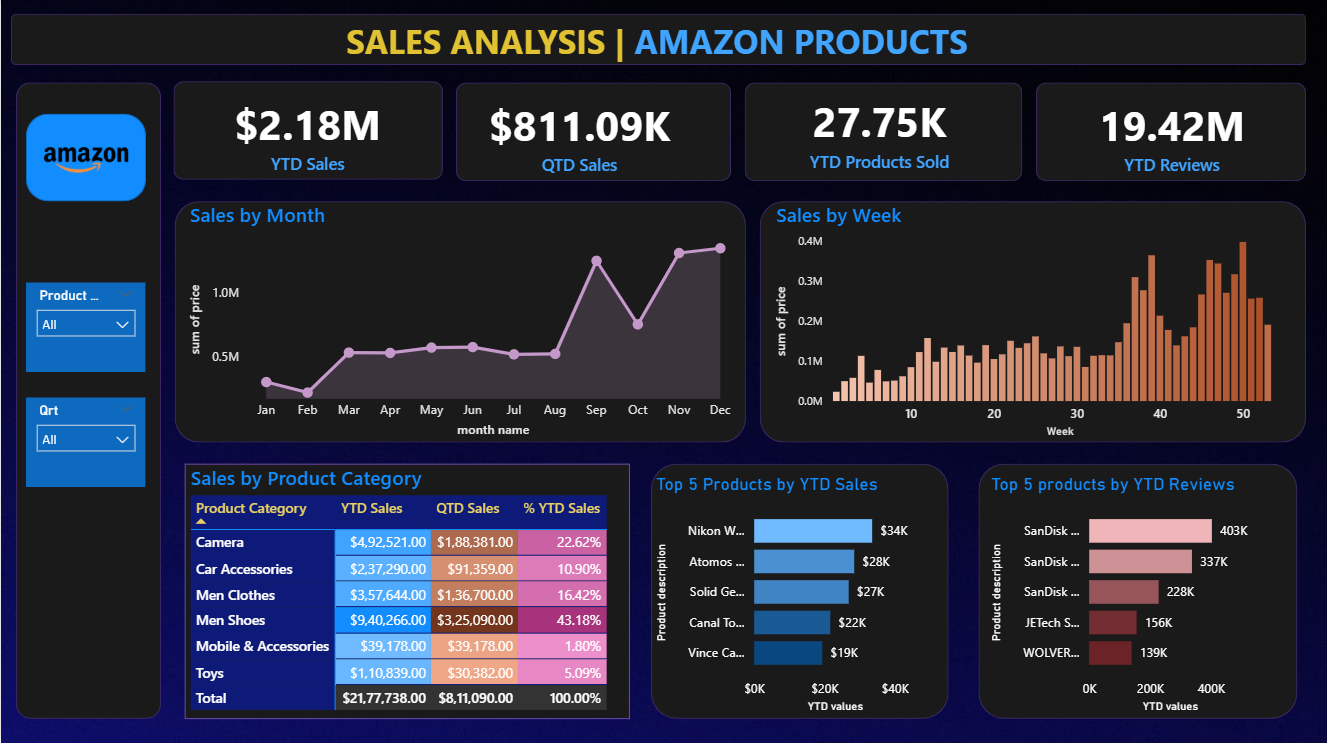

The dashboard page shown, as its layout file describes it:
{"tool":"powerbi","page":{"name":"Page 1","canvas":[1280,720],"ordinal":0},"visuals":[{"type":"shape","box":[9.7,13.3,1249.9,49.5],"z":0},{"type":"textbox","box":[326.9,13.3,624.9,55.5],"z":1000},{"type":"shape","box":[14.5,79.6,139.9,614.1],"z":2000},{"type":"shape","box":[166.5,78.4,260,95],"z":3000},{"type":"card","fields":{"Values":["Amazon_Data.YTD Sales"]},"box":[166.5,82,259.4,95.3],"z":4000},{"type":"shape","box":[167.7,194.2,551.3,232.8],"z":5000},{"type":"shape","box":[439.1,79.6,265.4,95.3],"z":6000},{"type":"shape","box":[717.8,79.6,267.8,95.3],"z":7000},{"type":"shape","box":[998.9,79.6,260.6,95.3],"z":8000},{"type":"card","fields":{"Values":["Amazon_Data.QTD Sales"]},"box":[425.9,83.2,265.4,95.3],"z":9000},{"type":"card","fields":{"Values":["Amazon_Data.YTD Products Sold"]},"box":[715.4,79.6,265.4,95.3],"z":10000},{"type":"card","fields":{"Values":["Amazon_Data.YTD Reviews"]},"box":[985.7,83.2,265.4,95.3],"z":11000},{"type":"areaChart","title":" Sales by Month ","fields":{"Category":["Date Table.Month Name"],"Y":["Sum(Amazon_Data.Price(Dollar))"]},"box":[177.3,194.2,538.1,232.8],"z":12000},{"type":"shape","box":[732.3,194.2,527.2,232.8],"z":13000},{"type":"columnChart","title":"Sales by Week","fields":{"Category":["Date Table.Week"],"Y":["Sum(Amazon_Data.Price(Dollar))"]},"box":[743.2,194.2,507.9,232.8],"z":14000},{"type":"pivotTable","title":"Sales by Product Category","fields":{"Rows":["Amazon_Data.Product Category"],"Values":["Amazon_Data.YTD Sales1","Amazon_Data.QTD Sales","Amazon_Data.YTD Sales"]},"box":[177.3,447.6,429.5,246.1],"z":15000},{"type":"shape","box":[627.3,447.6,287.1,246.1],"z":16000},{"type":"shape","box":[943.4,447.6,307.6,246.1],"z":17000},{"type":"clusteredBarChart","title":"Top 5 Products by YTD Sales ","fields":{"Category":["Amazon_Data.Product Description"],"Y":["Amazon_Data.YTD Sales"]},"box":[627.1,456.9,275.8,236],"z":18000},{"type":"clusteredBarChart","title":"Top 5 products by YTD Reviews","fields":{"Category":["Amazon_Data.Product Description"],"Y":["Amazon_Data.YTD Reviews"]},"box":[950.9,456.9,275.8,236],"z":19000},{"type":"slicer","fields":{"Values":["Amazon_Data.Product Category"]},"box":[24.7,273.1,115.3,86.4],"z":20000},{"type":"slicer","fields":{"Values":["Date Table.Qrt"]},"box":[24.7,384.2,115.3,86.4],"z":21000},{"type":"shape","box":[24.1,109.8,115.8,84.5],"z":22000},{"type":"image","box":[24.1,109.8,115.8,84.5],"z":23000}]}

Visuals, with their boxes in screenshot pixels (x1, y1, x2, y2), scaled from the page's 1280x720 canvas onto the 1327x743 screenshot:
shape: 10, 14, 1306, 65
textbox: 339, 14, 987, 71
shape: 15, 82, 160, 716
shape: 173, 81, 442, 179
card - Amazon_Data.YTD Sales: 173, 85, 442, 183
shape: 174, 200, 745, 441
shape: 455, 82, 730, 180
shape: 744, 82, 1022, 180
shape: 1036, 82, 1306, 180
card - Amazon_Data.QTD Sales: 442, 86, 717, 184
card - Amazon_Data.YTD Products Sold: 742, 82, 1017, 180
card - Amazon_Data.YTD Reviews: 1022, 86, 1297, 184
" Sales by Month " areaChart: 184, 200, 742, 441
shape: 759, 200, 1306, 441
"Sales by Week" columnChart: 770, 200, 1297, 441
"Sales by Product Category" pivotTable: 184, 462, 629, 716
shape: 650, 462, 948, 716
shape: 978, 462, 1297, 716
"Top 5 Products by YTD Sales " clusteredBarChart: 650, 471, 936, 715
"Top 5 products by YTD Reviews" clusteredBarChart: 986, 471, 1272, 715
slicer - Amazon_Data.Product Category: 26, 282, 145, 371
slicer - Date Table.Qrt: 26, 396, 145, 486
shape: 25, 113, 145, 201
image: 25, 113, 145, 201
